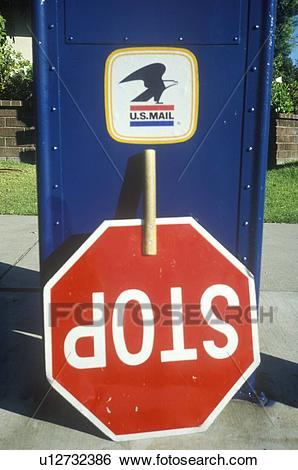stop: (33, 208, 271, 446)
